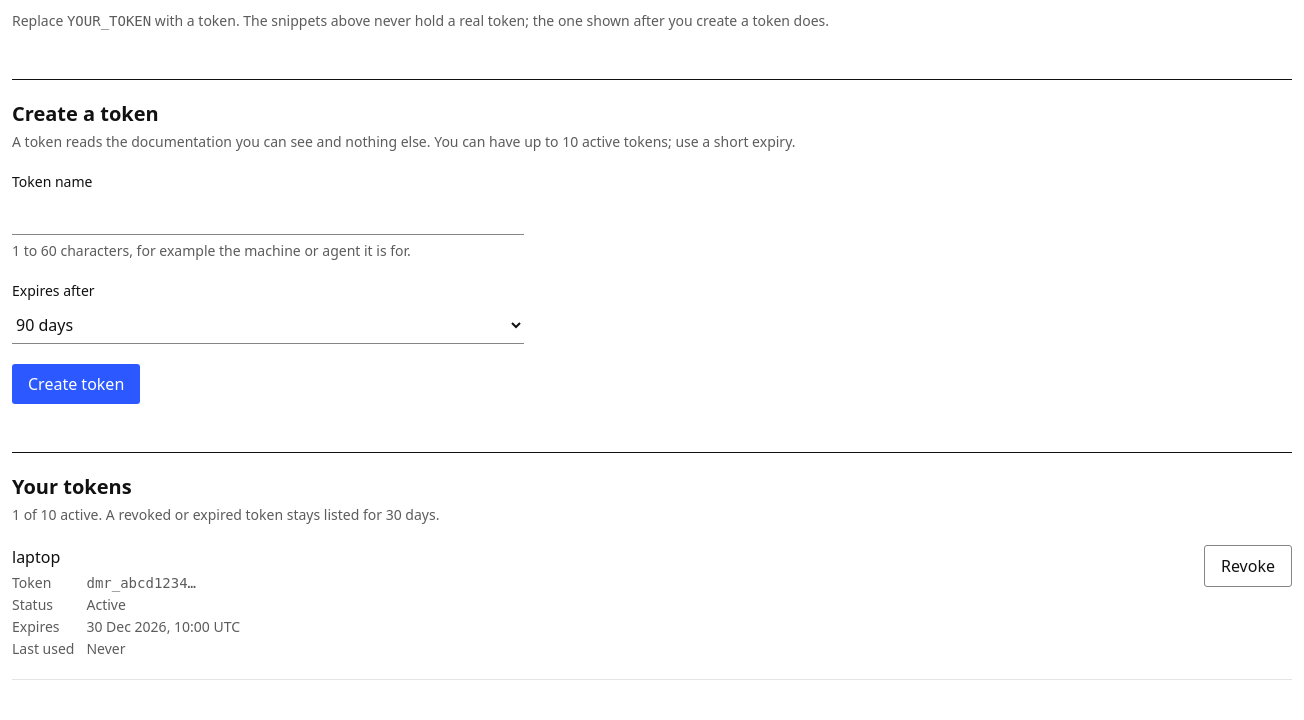
Test: AgentAccess: revoking › revokes after confirming: sends DELETE, shows Revoked and a notice, drops the button
(page scrolled)
What coordinates should you click on to do the following:
click the button with aria-label "Revoke laptop"
I would click on:
 (1248, 566)
Its box is 1204,545 -> 1292,587.
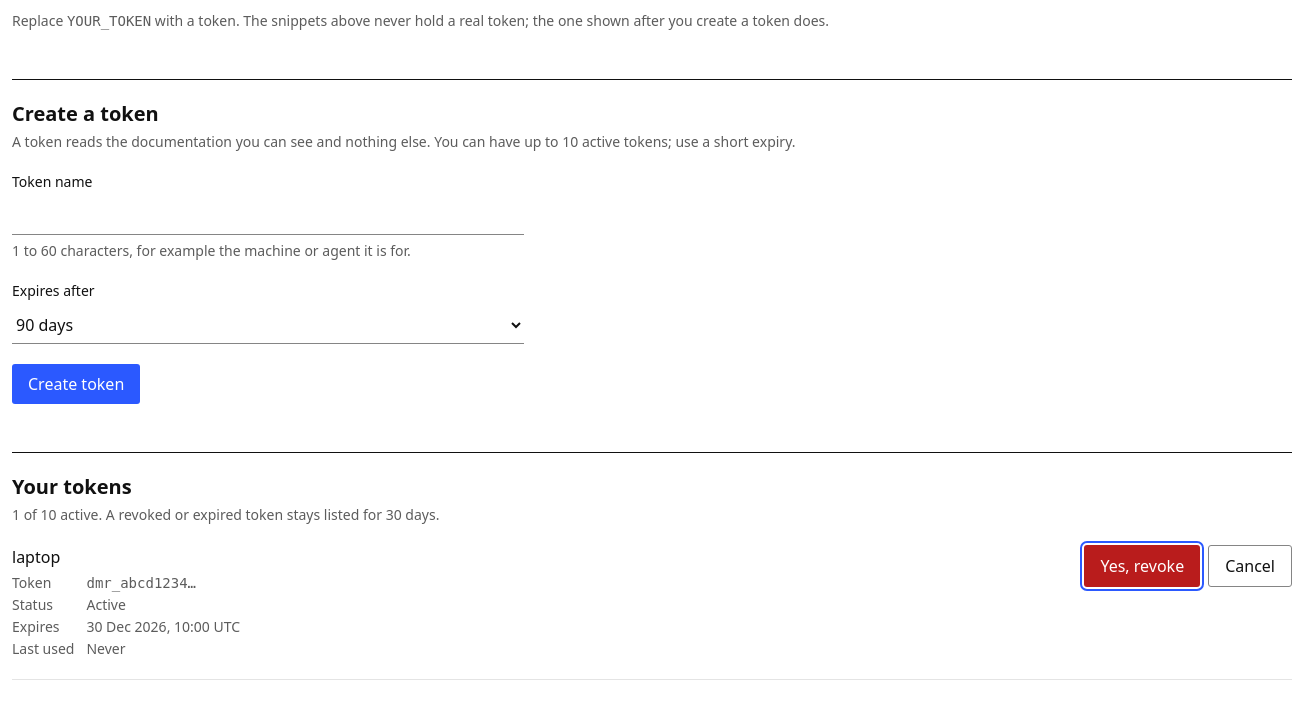
What coordinates should you click on to do the following:
click the button "Yes, revoke"
I would click on:
 (1142, 566)
Its box is 1084,545 -> 1200,587.
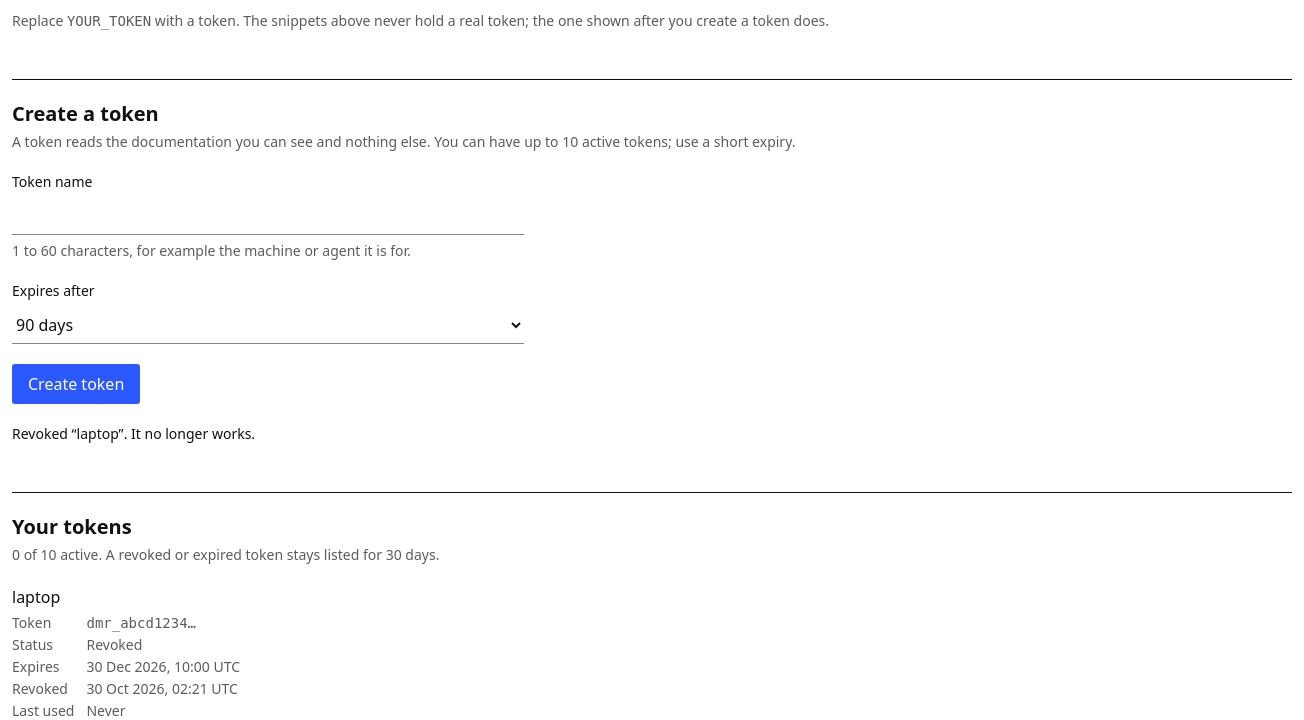
Now the text with test id "token-status" reads "Revoked", box 86,635 -> 142,654
Now the message with test id "agent-access-message" shows "Revoked “laptop”", box 12,424 -> 255,443
Now the text "0 of 10 active" is shown, box 12,545 -> 439,564
